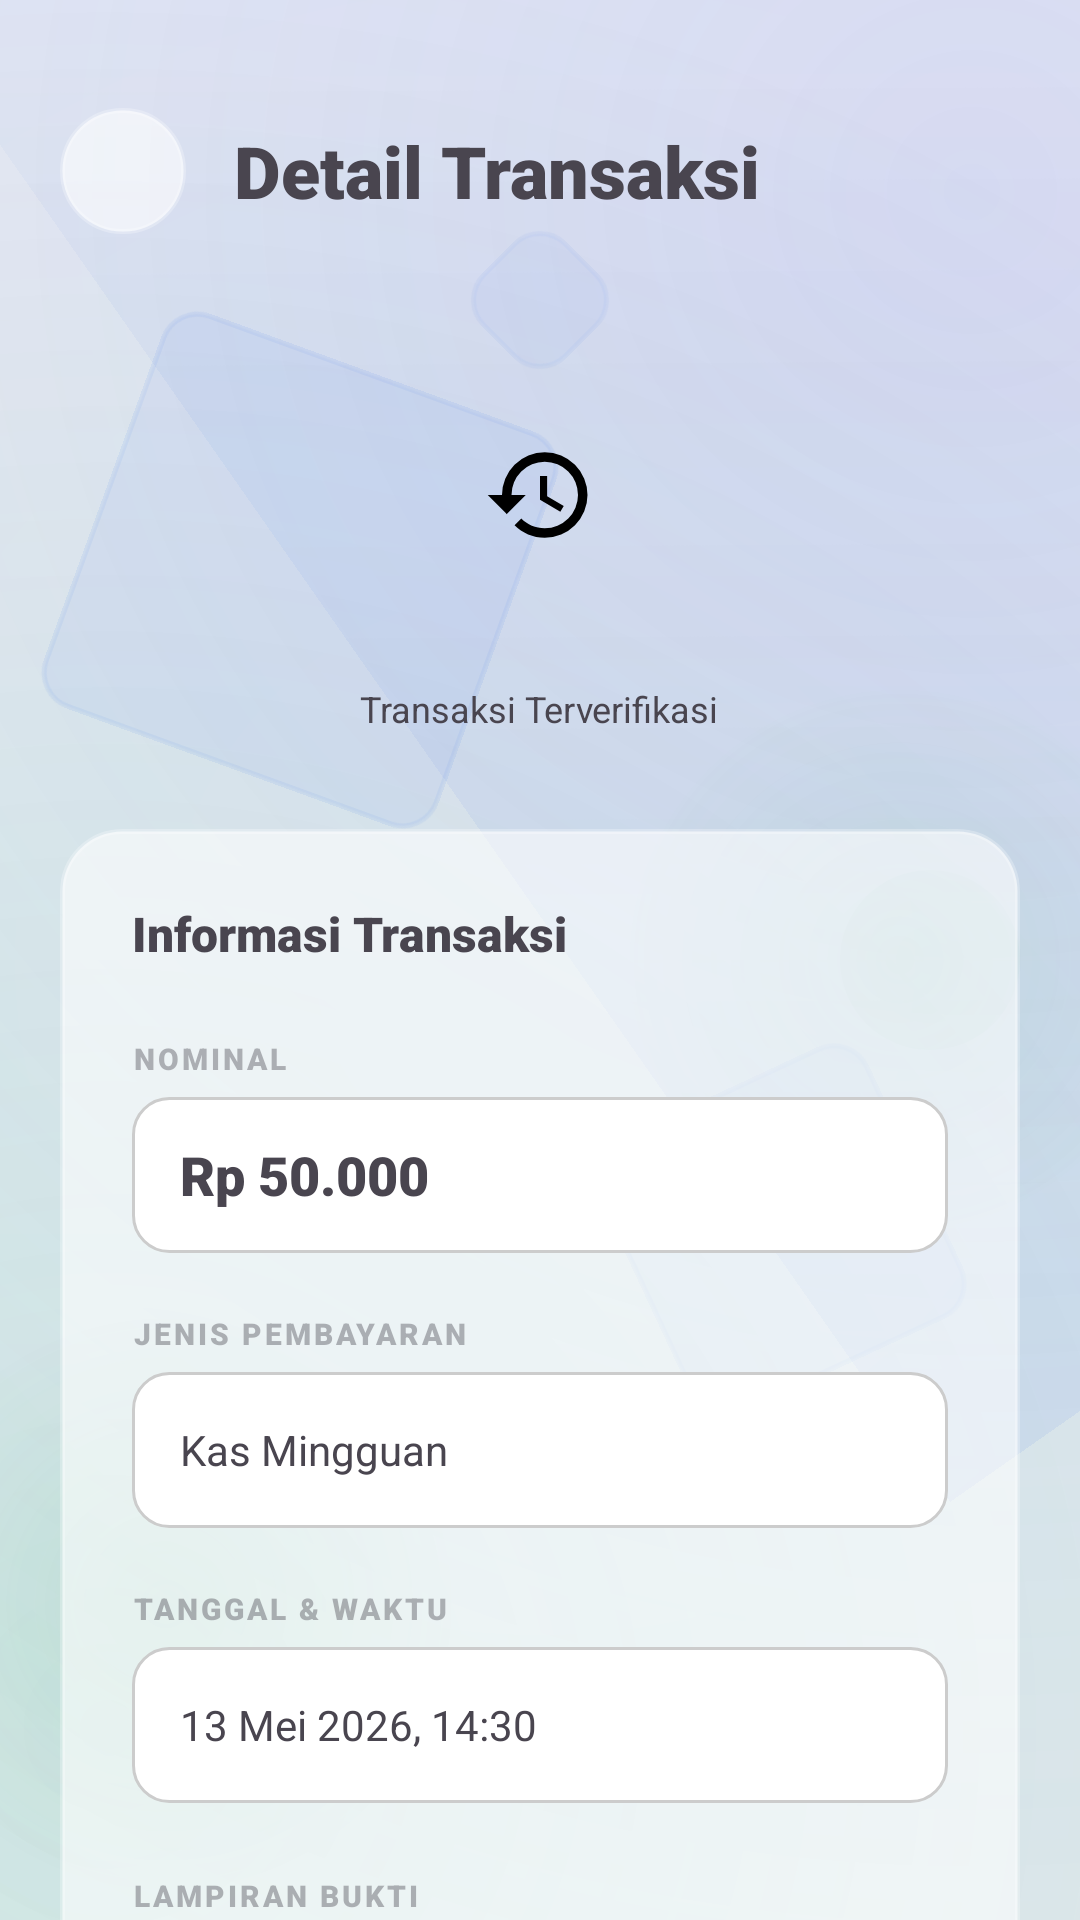

Icon click points for this 1080px x 1920px phone screenshot, format point (x, y):
history: point (538, 495)
